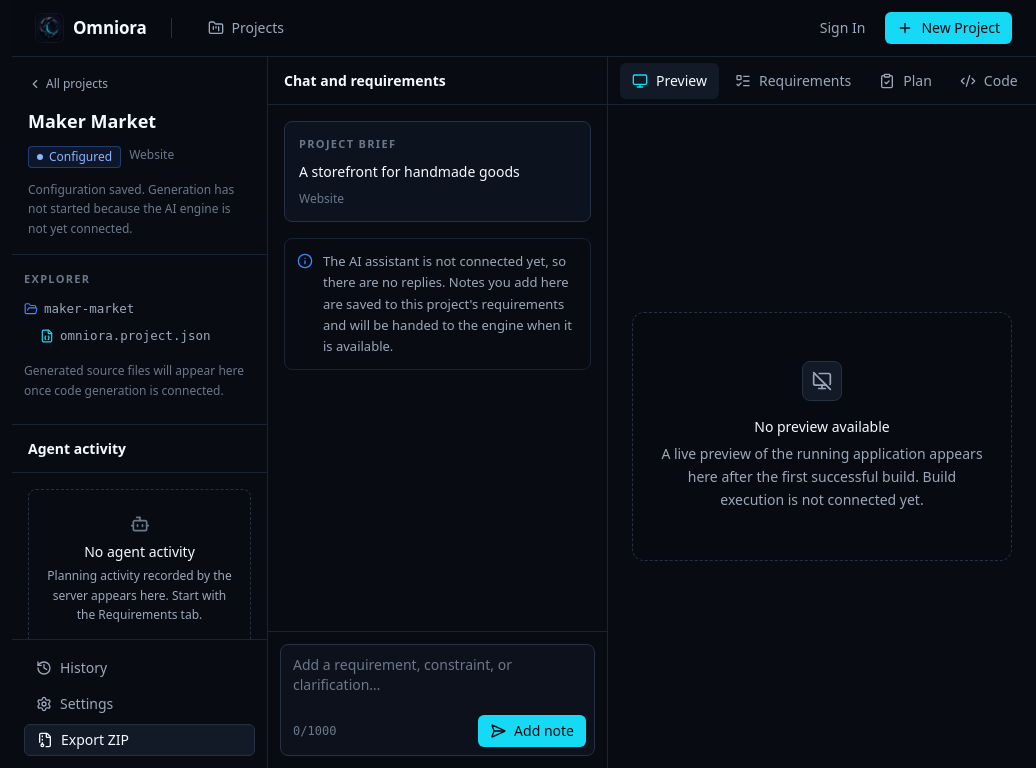
Test: Requirements tab › resumes after a refresh with the saved answers and shows structured requirements
Click the tab "Requirements".
click(793, 80)  # box [723,62,863,98]
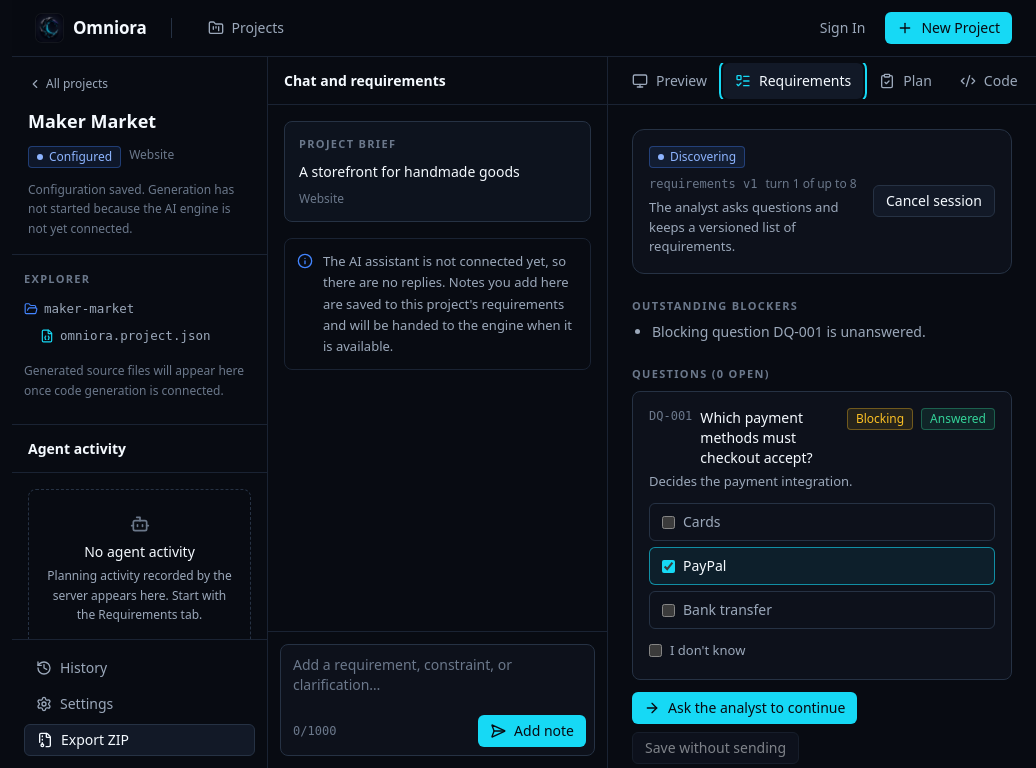
Expected: the checkbox labelled "PayPal" is checked, [662,560,675,572]
Expected: the checkbox labelled "Cards" is not checked, [662,516,675,528]
Expected: the button "Ask the analyst to continue" is shown, [632,692,857,724]
